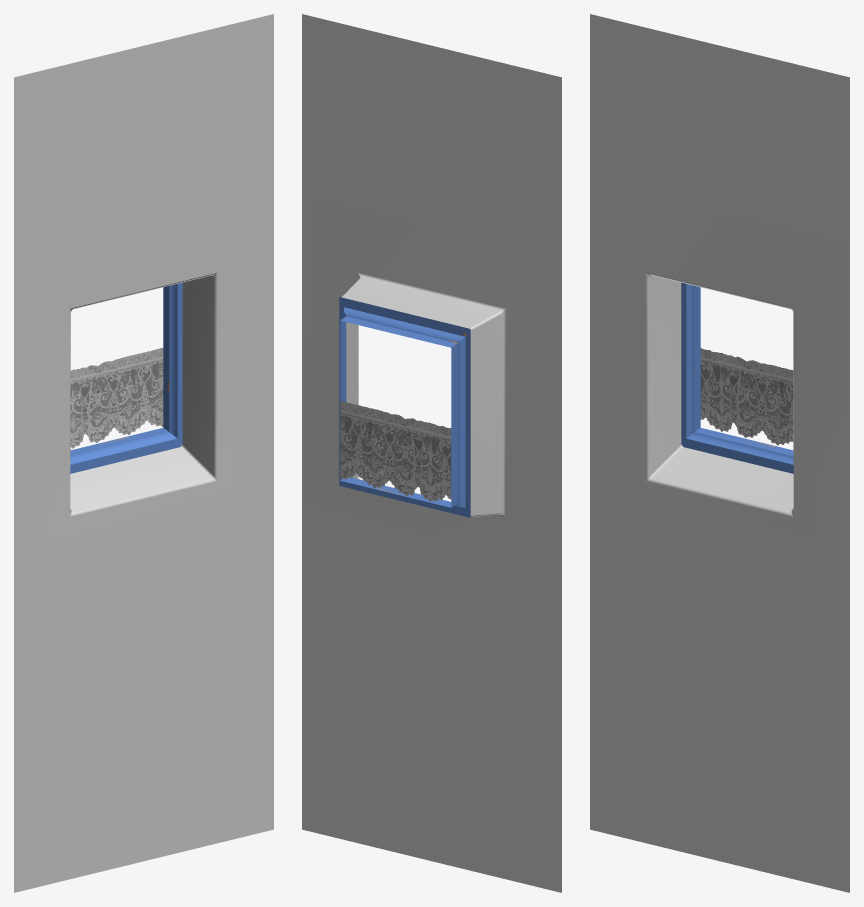
The model's file is WallWindow.fbx.
3 renders of one model, left to right at view 1: azimuth 30°, elevation 25°; view 2: azimuth 150°, elevation 25°; view 3: azimuth 330°, elevation 25°, orthographic.
Visible parts, largest first — view 1: WallWindow; view 2: WallWindow; view 3: WallWindow.
Boxes of the visible parts, left/top/right/bottom form: WallWindow: left=14, top=14, right=273, bottom=892; WallWindow: left=302, top=14, right=561, bottom=892; WallWindow: left=590, top=14, right=849, bottom=892.
Bounding box in the file's own units: 100 × 300 × 24.15.
3 materials, 2 textured.
